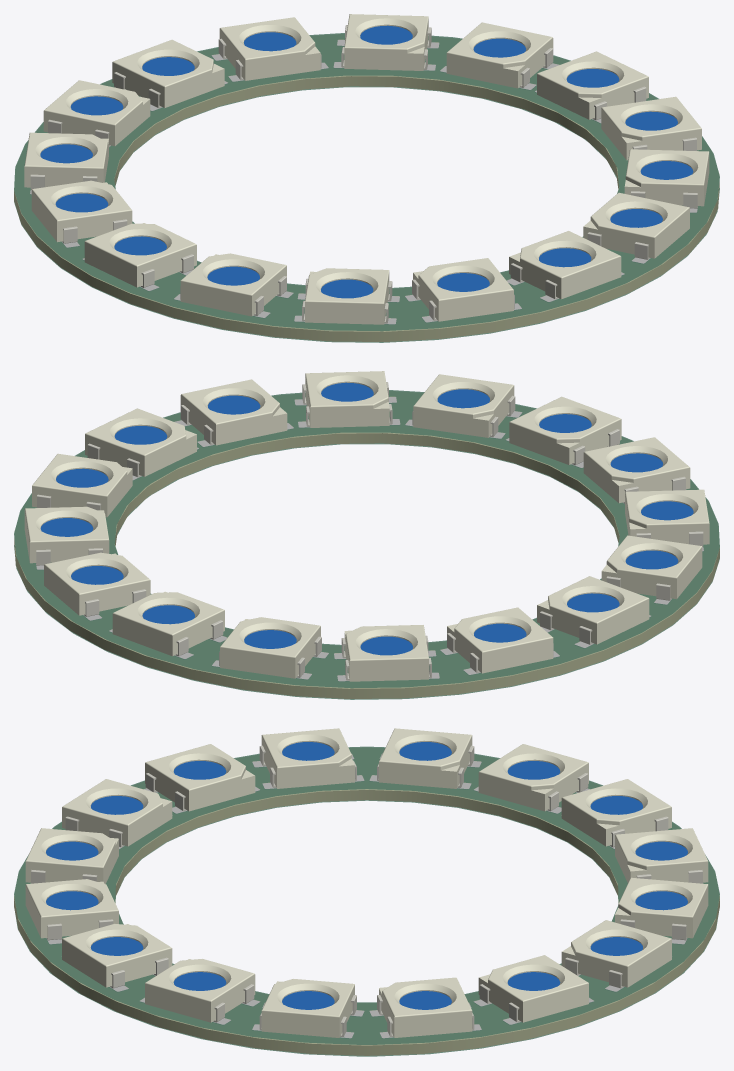
File: reins-ring.glb
3 views of the same model, one above another, from view 1: azimuth 30°, elevation 25°; view 2: azimuth 150°, elevation 25°; view 3: azimuth 270°, elevation 25° (orthographic).
Parts seen in each view (by area): view 1: =>[0:1:1:3] (×16), =>[0:1:1:10], =>[0:1:1:8], =>[0:1:1:9], =>[0:1:1:6]; view 2: =>[0:1:1:3] (×16), =>[0:1:1:10], =>[0:1:1:8], =>[0:1:1:9], =>[0:1:1:6]; view 3: =>[0:1:1:3] (×16), =>[0:1:1:10], =>[0:1:1:8], =>[0:1:1:9], =>[0:1:1:6].
Boxes of the visible parts, x1,y1,x2,y2 form: =>[0:1:1:3] (×16): [24, 14, 709, 324]; =>[0:1:1:10]: [14, 34, 719, 341]; =>[0:1:1:8]: [14, 33, 719, 331]; =>[0:1:1:9]: [14, 86, 719, 342]; =>[0:1:1:6]: [30, 40, 697, 324]; =>[0:1:1:3] (×16): [24, 371, 709, 681]; =>[0:1:1:10]: [14, 391, 719, 698]; =>[0:1:1:8]: [14, 390, 719, 688]; =>[0:1:1:9]: [14, 443, 719, 699]; =>[0:1:1:6]: [36, 397, 703, 681]; =>[0:1:1:3] (×16): [25, 728, 708, 1037]; =>[0:1:1:10]: [14, 748, 719, 1055]; =>[0:1:1:8]: [14, 746, 719, 1044]; =>[0:1:1:9]: [15, 800, 718, 1056]; =>[0:1:1:6]: [46, 753, 687, 1038].
Size of the model in its own units: 0.0444 by 0.00328 by 0.0444.
